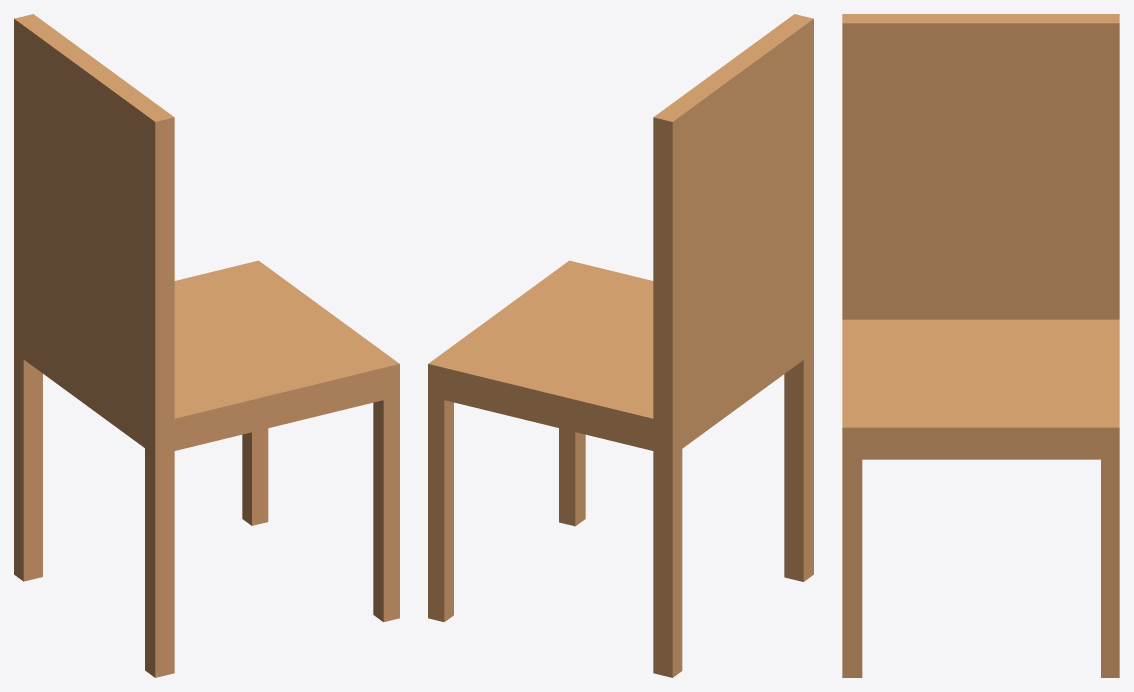
The model's file is chair.fbx.
The picture shows the model from 3 angles, left to right: view 1: azimuth 30°, elevation 25°; view 2: azimuth 150°, elevation 25°; view 3: azimuth 270°, elevation 25°; orthographic projection.
Visible parts, largest first — view 1: Cube; view 2: Cube; view 3: Cube.
Part boxes in pixels (x1,y1,x2,y2): Cube: (14, 14, 399, 677); Cube: (428, 14, 813, 677); Cube: (842, 14, 1119, 677).
Bounding box in the file's own units: 200 × 435 × 200.
